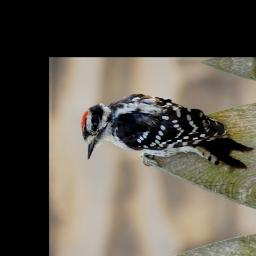Woodpecker: (80, 89, 255, 169)
